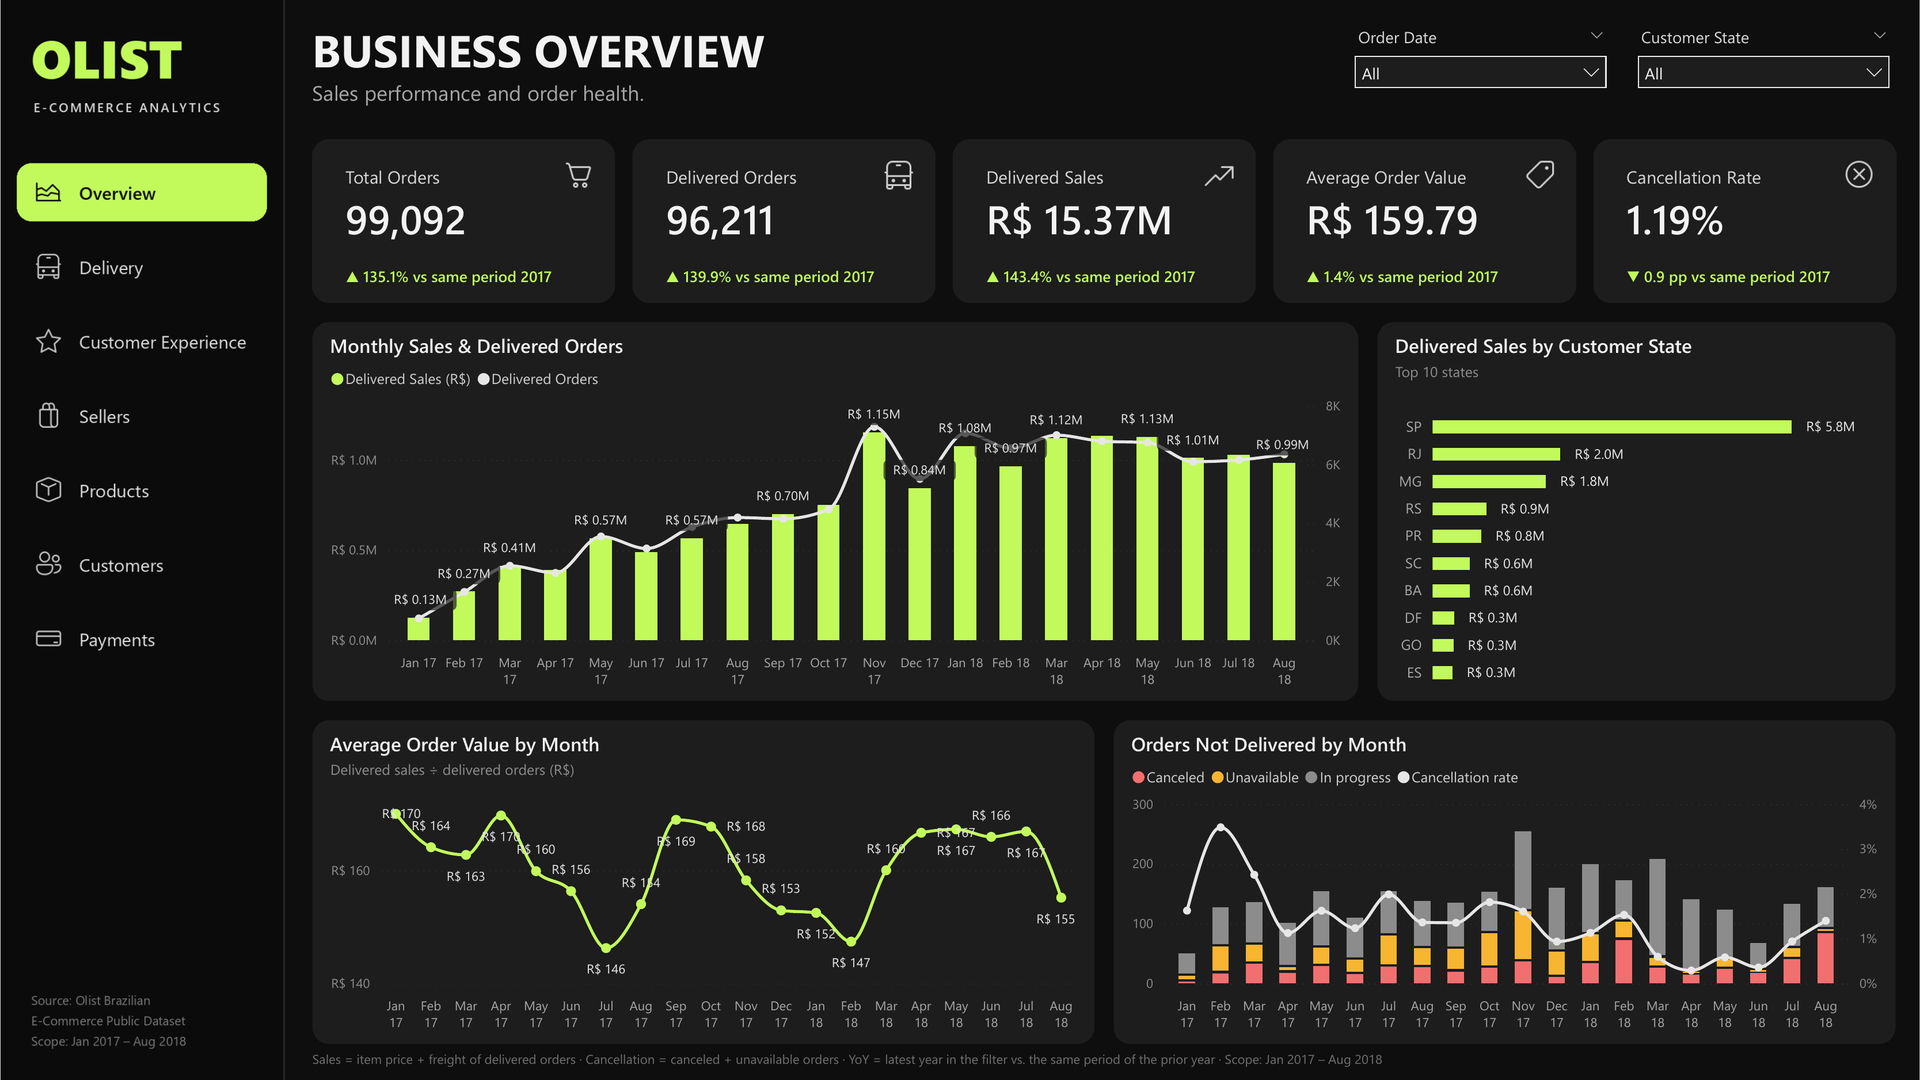

This screenshot's page, from the dashboard's own definition file:
{"tool":"powerbi","page":{"name":"Overview","canvas":[1600,900],"ordinal":0},"visuals":[{"type":"textbox","box":[260,16,860,90],"z":0},{"type":"textbox","box":[260,874,1320,22],"z":1000},{"type":"cardVisual","fields":{"Data":["_Measures.Total Orders"]},"box":[276,128,188,84],"z":2000},{"type":"cardVisual","fields":{"Data":["_Measures.Delivered Orders"]},"box":[543,128,188,84],"z":3000},{"type":"cardVisual","fields":{"Data":["_Measures.Delivered Sales"]},"box":[810,128,188,84],"z":4000},{"type":"cardVisual","fields":{"Data":["_Measures.Avg Order Value"]},"box":[1077,128,188,84],"z":5000},{"type":"cardVisual","fields":{"Data":["_Measures.Cancellation Rate"]},"box":[1344,128,188,84],"z":6000},{"type":"cardVisual","fields":{"Data":["_Measures.Total Orders Δ text"]},"box":[276,214,228,28],"z":7000},{"type":"cardVisual","fields":{"Data":["_Measures.Delivered Orders Δ text"]},"box":[543,214,228,28],"z":8000},{"type":"cardVisual","fields":{"Data":["_Measures.Delivered Sales Δ text"]},"box":[810,214,228,28],"z":9000},{"type":"cardVisual","fields":{"Data":["_Measures.Avg Order Value Δ text"]},"box":[1077,214,228,28],"z":10000},{"type":"cardVisual","fields":{"Data":["_Measures.Cancellation Rate Δ text"]},"box":[1344,214,228,28],"z":11000},{"type":"lineStackedColumnComboChart","title":"Monthly Sales & Delivered Orders","fields":{"Category":["Date.YearMonth"],"Y":["_Measures.Delivered Sales"],"Y2":["_Measures.Delivered Orders"]},"box":[260,268,872,316],"z":12000},{"type":"clusteredBarChart","title":"Delivered Sales by Customer State","fields":{"Category":["States.state"],"Y":["_Measures.Delivered Sales"]},"box":[1148,268,432,316],"z":13000},{"type":"lineChart","title":"Average Order Value by Month","fields":{"Category":["Date.YearMonth"],"Y":["_Measures.Avg Order Value"]},"box":[260,600,652,270],"z":14000},{"type":"lineStackedColumnComboChart","title":"Orders Not Delivered by Month","fields":{"Category":["Date.YearMonth"],"Y":["_Measures.Orders Canceled","_Measures.Orders Unavailable","_Measures.Orders In Progress"],"Y2":["_Measures.Cancellation Rate"]},"box":[928,600,652,270],"z":15000},{"type":"actionButton","box":[14,136,208,48],"z":16000},{"type":"actionButton","box":[14,198,208,48],"z":17000},{"type":"actionButton","box":[14,260,208,48],"z":18000},{"type":"actionButton","box":[14,322,208,48],"z":19000},{"type":"actionButton","box":[14,384,208,48],"z":20000},{"type":"actionButton","box":[14,446,208,48],"z":21000},{"type":"actionButton","box":[14,508,208,48],"z":22000},{"type":"slicer","fields":{"Values":["Date.Year","Date.Month"]},"box":[1124,22,220,70],"z":23000},{"type":"slicer","fields":{"Values":["States.state_name"]},"box":[1360,22,220,70],"z":24000}]}

Visuals, with their boxes on the page's 1600x900 design canvas (x1, y1, x2, y2). These are canvas units, not pixel positions in the 1920x1080 screenshot, which may show the page scaled, cropped or inside an application window:
textbox: <bbox>260, 16, 1120, 106</bbox>
textbox: <bbox>260, 874, 1580, 896</bbox>
cardVisual - _Measures.Total Orders: <bbox>276, 128, 464, 212</bbox>
cardVisual - _Measures.Delivered Orders: <bbox>543, 128, 731, 212</bbox>
cardVisual - _Measures.Delivered Sales: <bbox>810, 128, 998, 212</bbox>
cardVisual - _Measures.Avg Order Value: <bbox>1077, 128, 1265, 212</bbox>
cardVisual - _Measures.Cancellation Rate: <bbox>1344, 128, 1532, 212</bbox>
cardVisual - _Measures.Total Orders Δ text: <bbox>276, 214, 504, 242</bbox>
cardVisual - _Measures.Delivered Orders Δ text: <bbox>543, 214, 771, 242</bbox>
cardVisual - _Measures.Delivered Sales Δ text: <bbox>810, 214, 1038, 242</bbox>
cardVisual - _Measures.Avg Order Value Δ text: <bbox>1077, 214, 1305, 242</bbox>
cardVisual - _Measures.Cancellation Rate Δ text: <bbox>1344, 214, 1572, 242</bbox>
"Monthly Sales & Delivered Orders" lineStackedColumnComboChart: <bbox>260, 268, 1132, 584</bbox>
"Delivered Sales by Customer State" clusteredBarChart: <bbox>1148, 268, 1580, 584</bbox>
"Average Order Value by Month" lineChart: <bbox>260, 600, 912, 870</bbox>
"Orders Not Delivered by Month" lineStackedColumnComboChart: <bbox>928, 600, 1580, 870</bbox>
actionButton: <bbox>14, 136, 222, 184</bbox>
actionButton: <bbox>14, 198, 222, 246</bbox>
actionButton: <bbox>14, 260, 222, 308</bbox>
actionButton: <bbox>14, 322, 222, 370</bbox>
actionButton: <bbox>14, 384, 222, 432</bbox>
actionButton: <bbox>14, 446, 222, 494</bbox>
actionButton: <bbox>14, 508, 222, 556</bbox>
slicer - Date.Year x Date.Month: <bbox>1124, 22, 1344, 92</bbox>
slicer - States.state_name: <bbox>1360, 22, 1580, 92</bbox>
